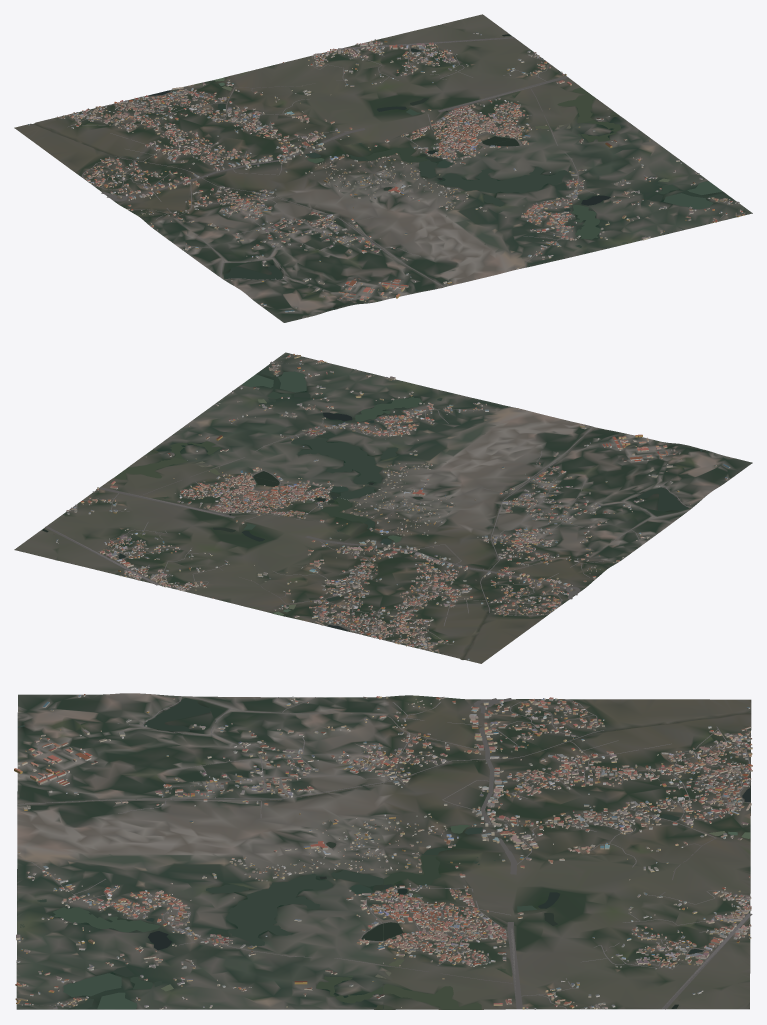
The picture shows the model from 3 angles, top to bottom: view 1: azimuth 30°, elevation 25°; view 2: azimuth 150°, elevation 25°; view 3: azimuth 270°, elevation 25°; orthographic projection. The views are drawn at different scales.
Parts seen in each view (by area): view 1: ground, buildings, water, roads; view 2: ground, buildings, water, roads; view 3: ground, buildings, water, roads.
Boxes of the visible parts, left/top/right/bottom form: ground: left=14, top=14, right=752, bottom=322; buildings: left=28, top=32, right=744, bottom=312; water: left=35, top=34, right=733, bottom=309; roads: left=67, top=37, right=734, bottom=299; ground: left=14, top=352, right=752, bottom=663; buildings: left=56, top=354, right=730, bottom=660; water: left=42, top=366, right=702, bottom=657; roads: left=45, top=361, right=691, bottom=650; ground: left=16, top=693, right=751, bottom=1009; buildings: left=14, top=694, right=752, bottom=1009; water: left=18, top=698, right=750, bottom=1009; roads: left=17, top=696, right=752, bottom=1009.
Bounding box in the file's own units: 2812 × 37.76 × 2825.
